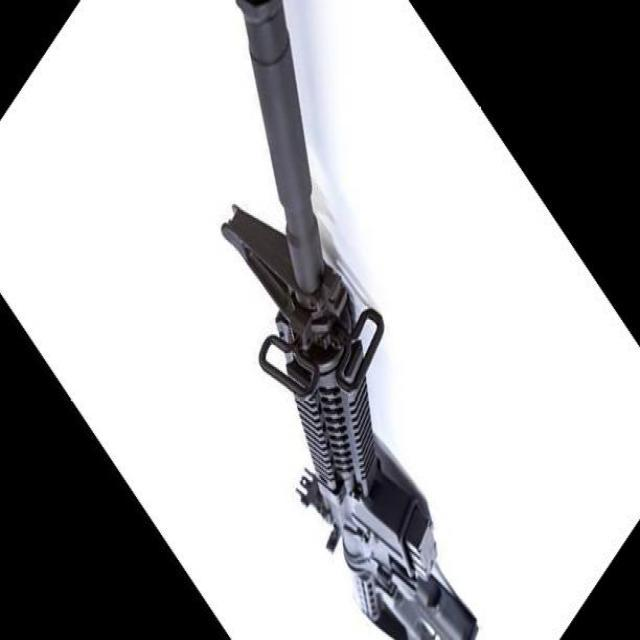weapon: (221, 0, 478, 640)
